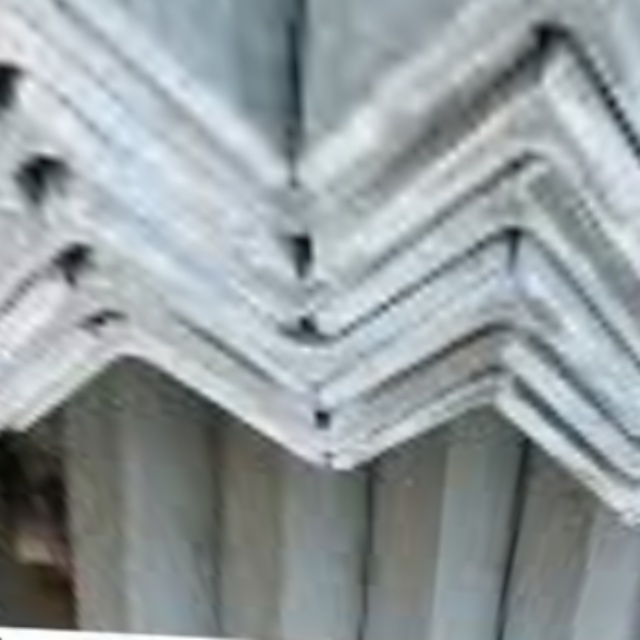Angle: (0, 0, 524, 247), (320, 0, 640, 232), (86, 197, 491, 370), (0, 0, 273, 249), (324, 172, 640, 373), (0, 0, 272, 179), (0, 274, 314, 427), (320, 292, 640, 425), (0, 337, 308, 455), (545, 93, 640, 297), (512, 300, 640, 436), (0, 299, 117, 437), (505, 358, 640, 473), (501, 409, 640, 511), (0, 255, 89, 404), (0, 187, 62, 351)
